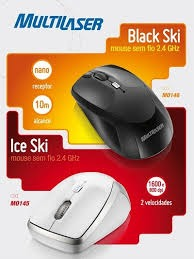mouse: (69, 56, 178, 163), (23, 169, 138, 255)
